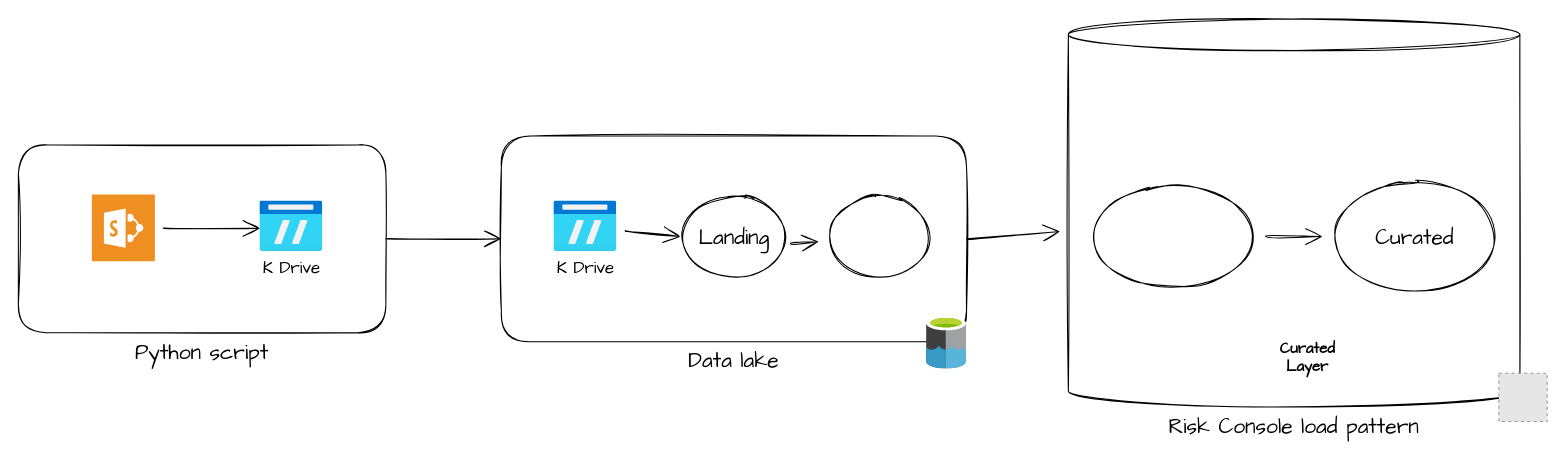
Image size: 1566x458. Some labels were removed from this diagram. Grey dashed boxes stand in for pictures. The shapes that lost their labels are listed below. From the top down, each one's centre as x and y in pixels, then its label:
At point (122, 227): "Sharepoint".
At point (879, 236): "Raw".
At point (1172, 236): "Structured".
